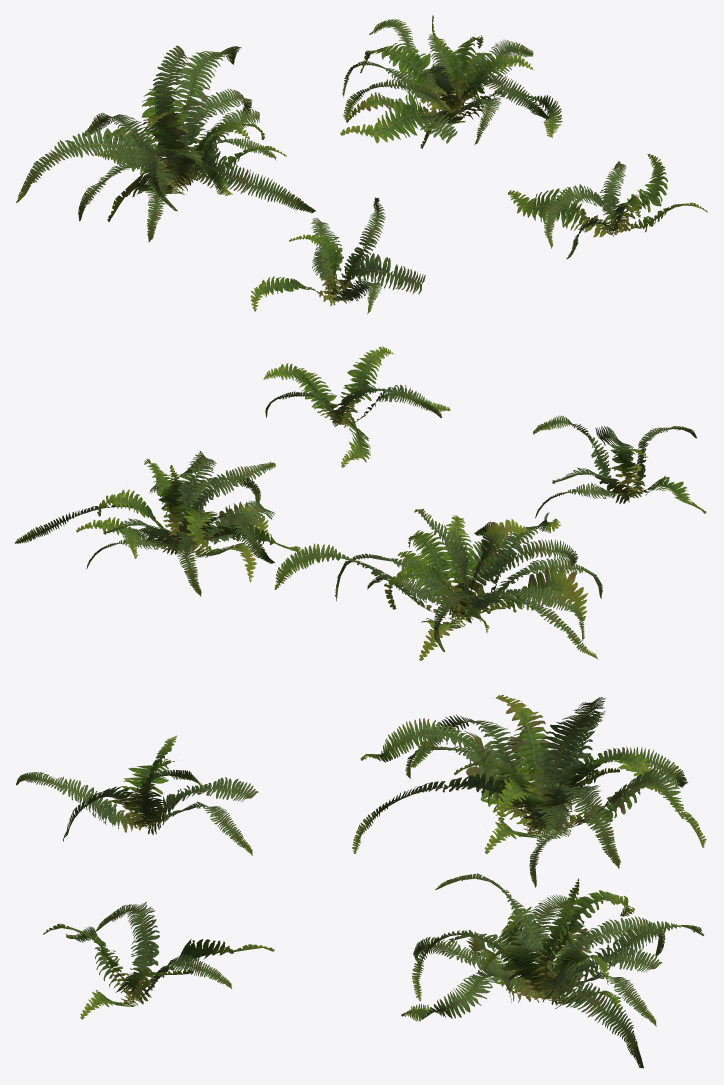
Rendered from fern_02.gltf.
3 views of the same model, one above another, from view 1: azimuth 30°, elevation 25°; view 2: azimuth 150°, elevation 25°; view 3: azimuth 270°, elevation 25° (orthographic). The views are drawn at different scales.
Parts seen in each view (by area): view 1: fern_02_b, fern_02_c, fern_02_a, fern_02_d; view 2: fern_02_b, fern_02_c, fern_02_d, fern_02_a; view 3: fern_02_b, fern_02_c, fern_02_a, fern_02_d.
Boxes of the visible parts, bbox=[...] form: fern_02_b: bbox=[16, 45, 315, 242]; fern_02_c: bbox=[340, 15, 562, 148]; fern_02_a: bbox=[250, 197, 425, 314]; fern_02_d: bbox=[508, 153, 707, 259]; fern_02_b: bbox=[274, 508, 602, 660]; fern_02_c: bbox=[15, 450, 301, 596]; fern_02_d: bbox=[263, 346, 450, 467]; fern_02_a: bbox=[533, 415, 706, 518]; fern_02_b: bbox=[352, 694, 706, 887]; fern_02_c: bbox=[401, 873, 703, 1068]; fern_02_a: bbox=[16, 735, 258, 855]; fern_02_d: bbox=[43, 902, 274, 1019].
Size of the model in its own units: 1.97 by 0.4277 by 1.72.
1 material, 1 textured.
